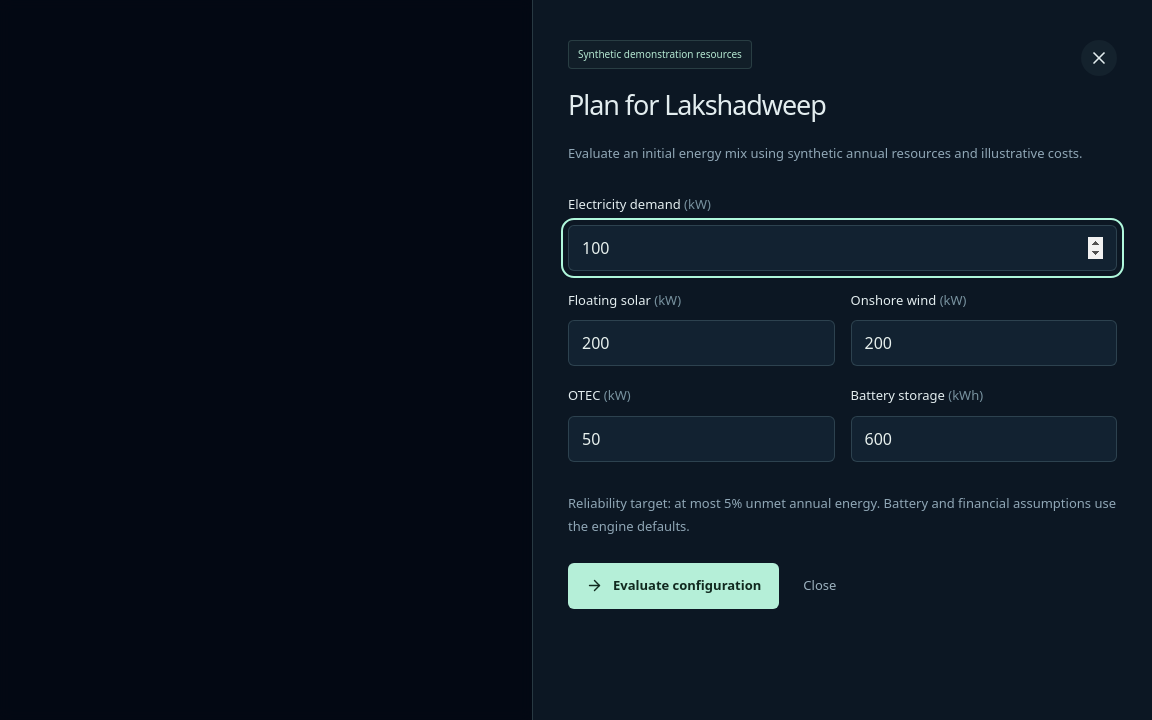
Test: PlanningPanel › submits edited capacities and displays actual returned metrics
Later steps or results of the test are not shown.
Replace the text in the number field labelled "Floating solar (kW)" with "345.5" at (701, 344), box [568,320,834,366]
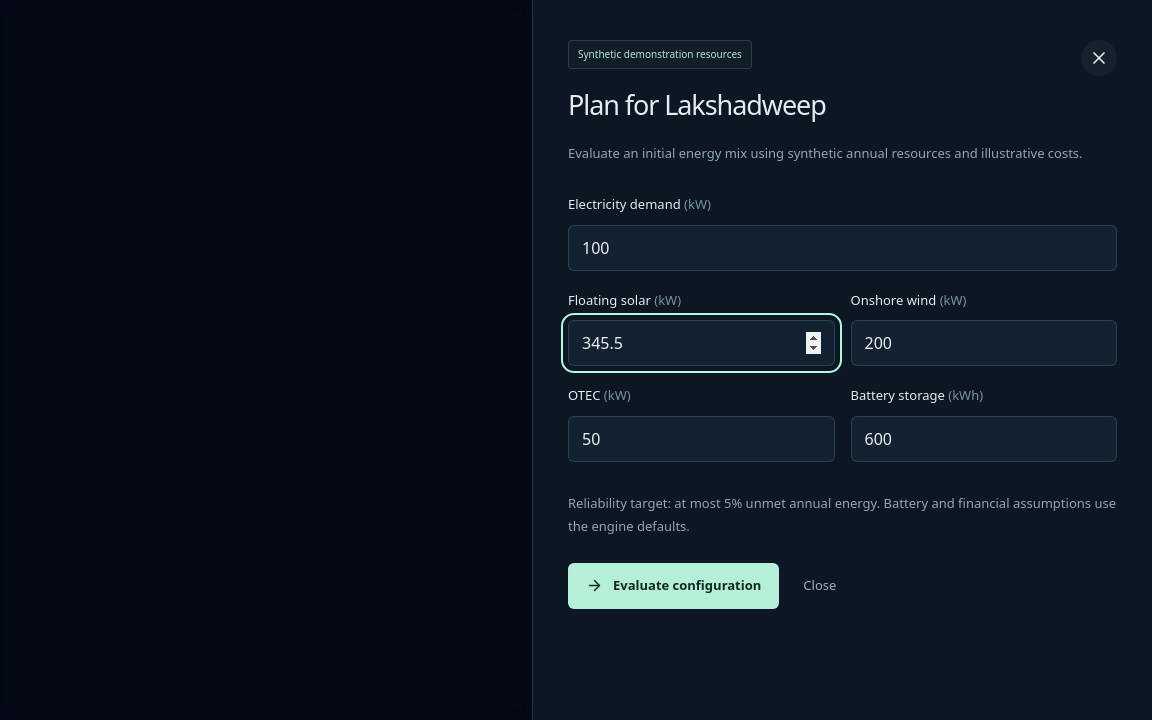
Replace the text in the number field labelled "Battery storage (kWh)" with "900" at (984, 439), box [850,416,1117,462]
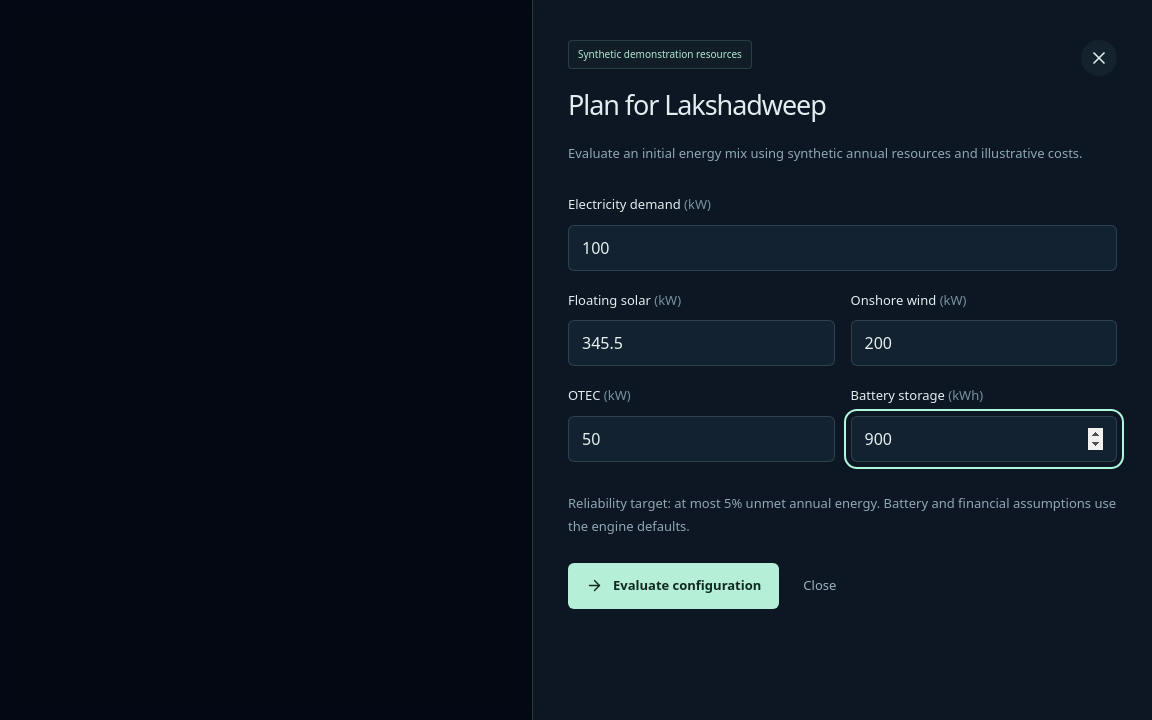
Click the button "Evaluate configuration" at (674, 586), box [568,563,779,609]
(page scrolled)
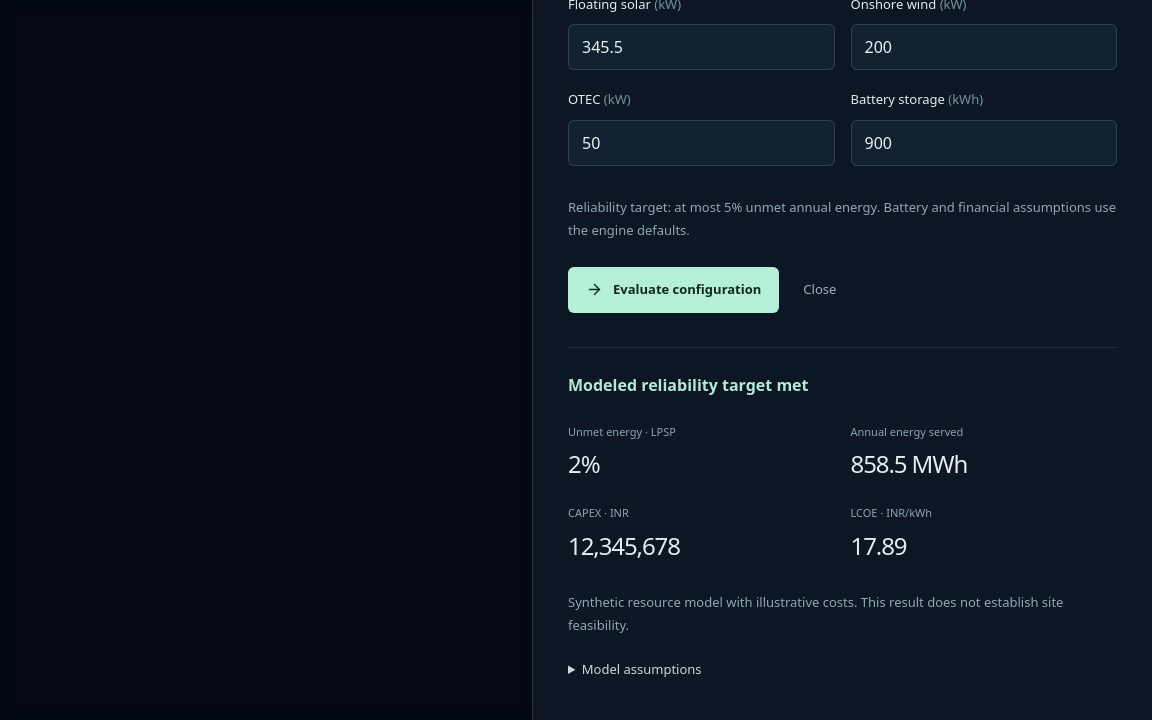
Now the heading "Modeled reliability target met" is shown, box [568,374,808,396]
Now the text "2%" is shown, box [568,447,600,480]
Now the text "858.5 MWh" is shown, box [850,447,967,480]
Click the heading "Model assumptions" at (642, 668), box [582,660,702,678]
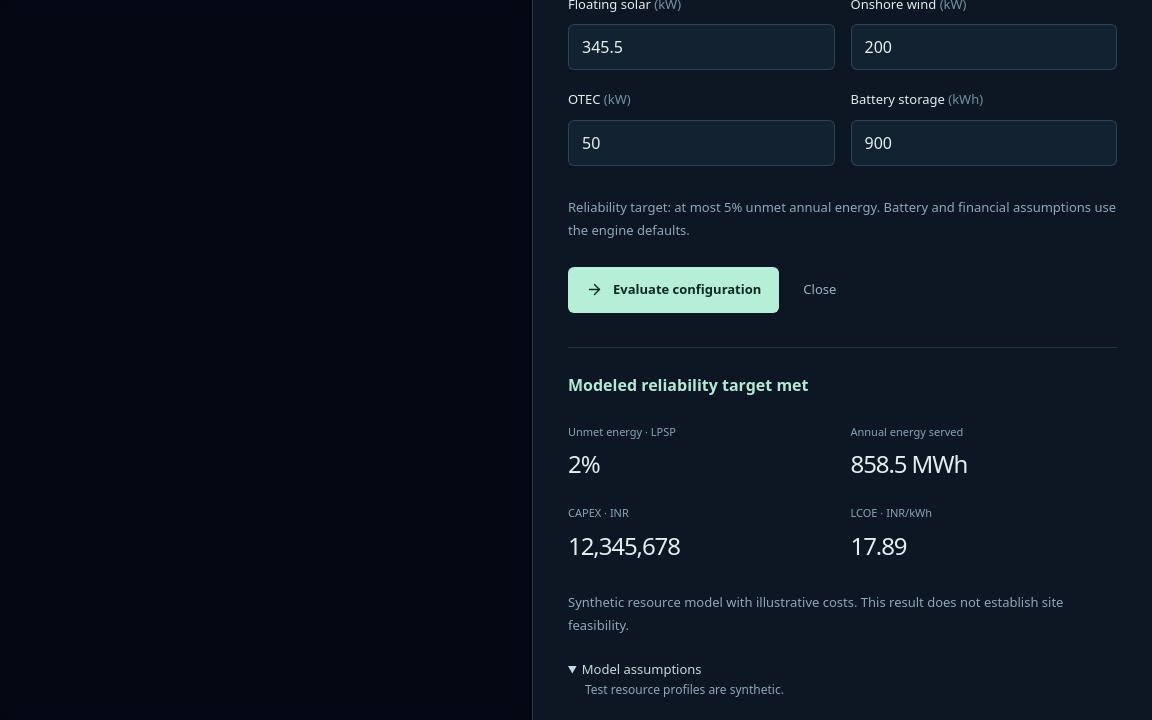
Now the list item "Test resource profiles are synthetic." is shown, box [585,681,784,698]
